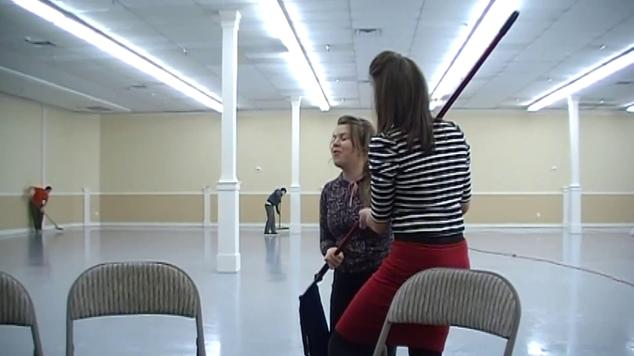stay: (22, 187, 55, 238), (266, 182, 286, 231)
